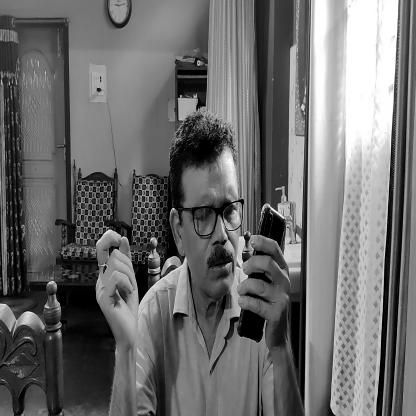Distracted: (166, 115, 245, 310)
